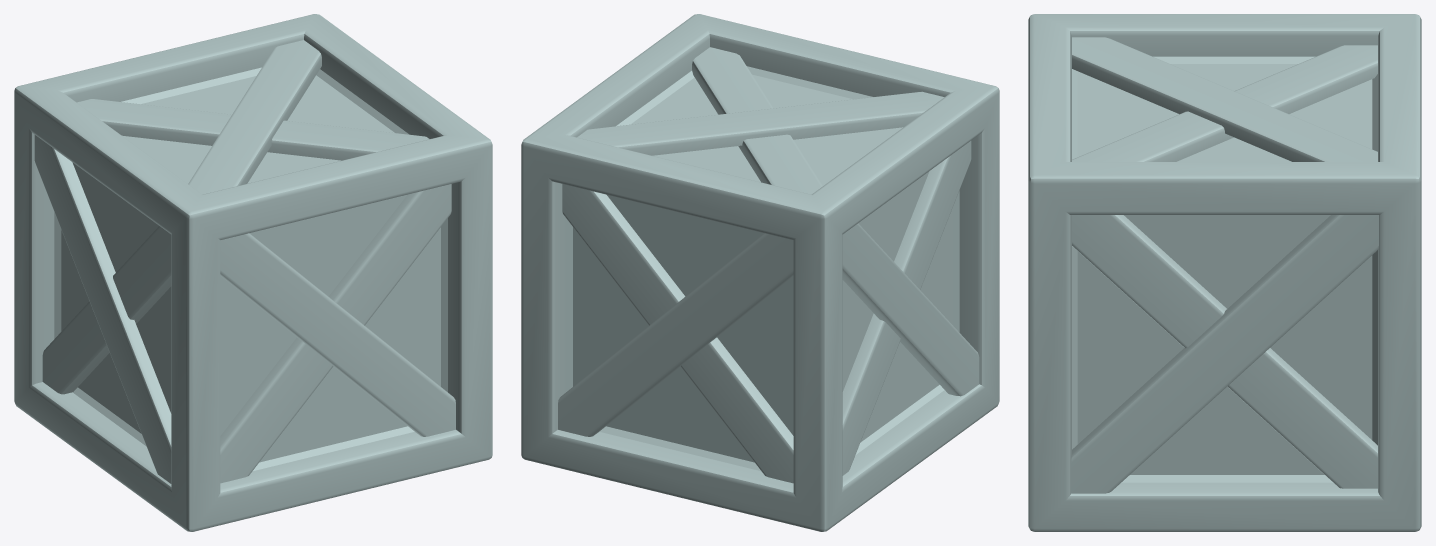
The model's file is crate.fbx.
The picture shows the model from 3 angles, left to right: view 1: azimuth 30°, elevation 25°; view 2: azimuth 150°, elevation 25°; view 3: azimuth 270°, elevation 25°; orthographic projection. The views are drawn at different scales.
Visible parts, largest first — view 1: polySurface196; view 2: polySurface196; view 3: polySurface196.
Part boxes in pixels (x1=…): polySurface196: x1=14, y1=14, x2=492, y2=531; polySurface196: x1=521, y1=14, x2=999, y2=531; polySurface196: x1=1028, y1=14, x2=1421, y2=531.
Size of the model in its own units: 100 by 100 by 100.
